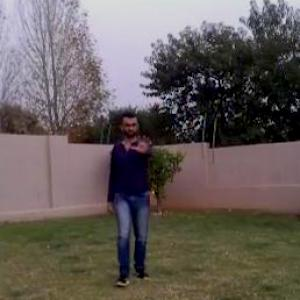follow_hand: (129, 130, 155, 155)
